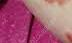plaque psoriasis: (14, 0, 72, 5), (64, 31, 72, 43)
